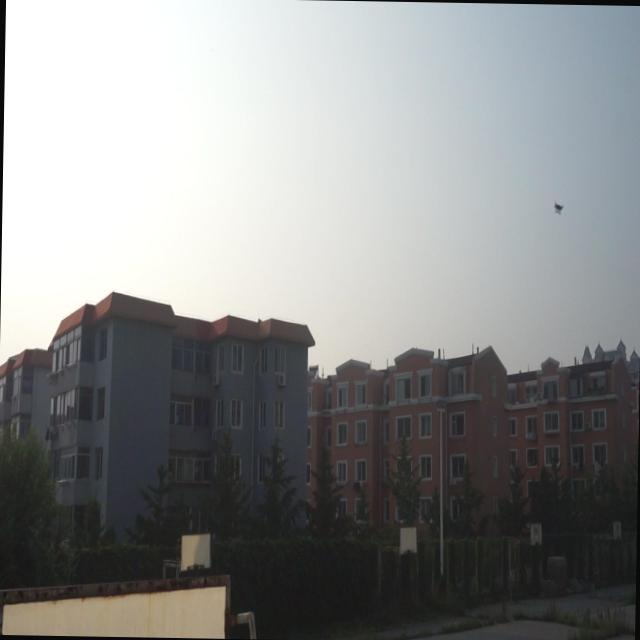drone: (553, 198, 564, 216)
